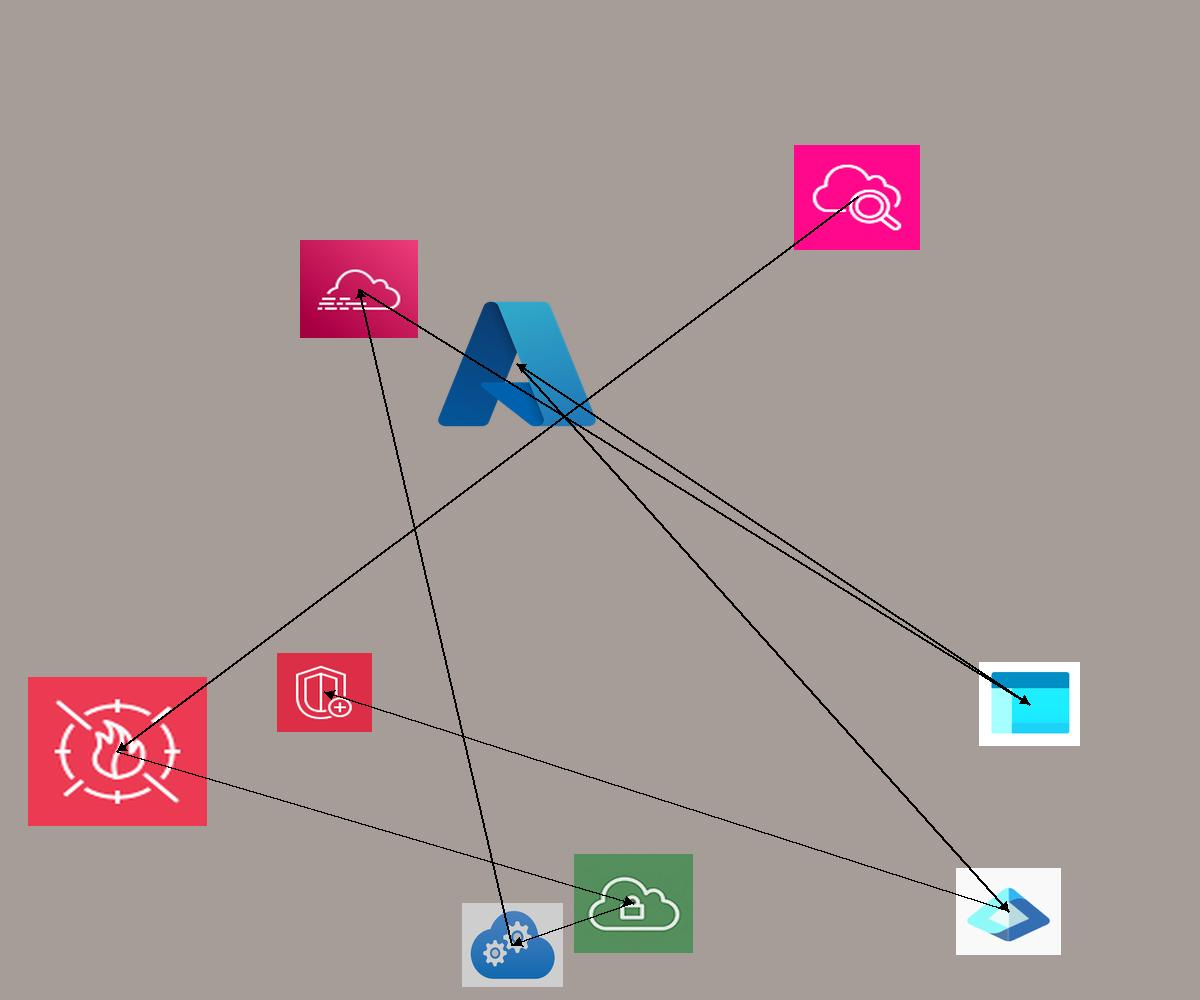AWS-CloudTrail: (300, 240, 418, 338)
AWS-CloudWatch: (794, 145, 920, 250)
AWS-Private_vpc: (574, 854, 693, 953)
AWS-Shield: (277, 653, 372, 732)
AWS-WAF: (28, 677, 207, 826)
Azure_cloud_services: (462, 903, 563, 987)
Azure_management-portal: (979, 662, 1080, 746)
Azure_microsoft_entra: (956, 868, 1061, 955)
Azure_services: (431, 292, 603, 436)
